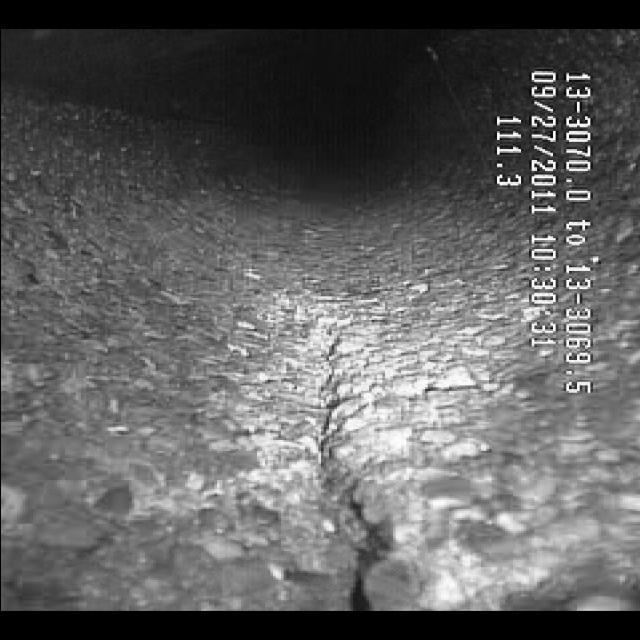Crack: (264, 326, 402, 562)
